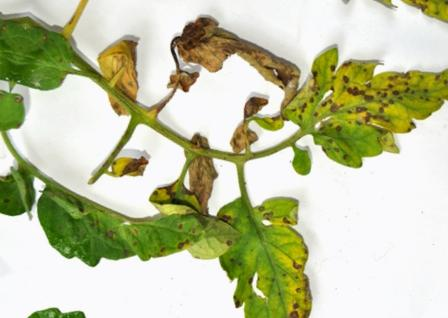Tomato Septoria leaf spot: (15, 156, 250, 304), (278, 30, 448, 189), (186, 175, 341, 318)
